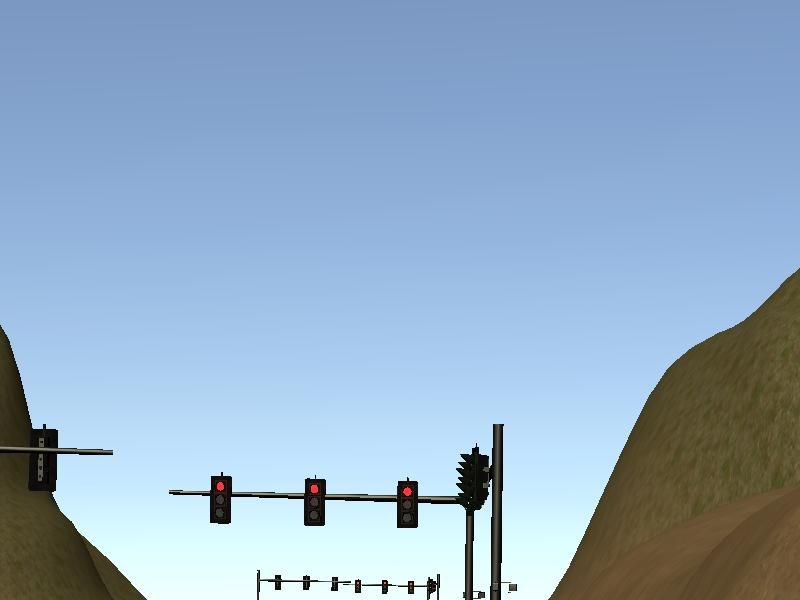red: (394, 477, 420, 529), (207, 473, 232, 524), (304, 477, 325, 525)
